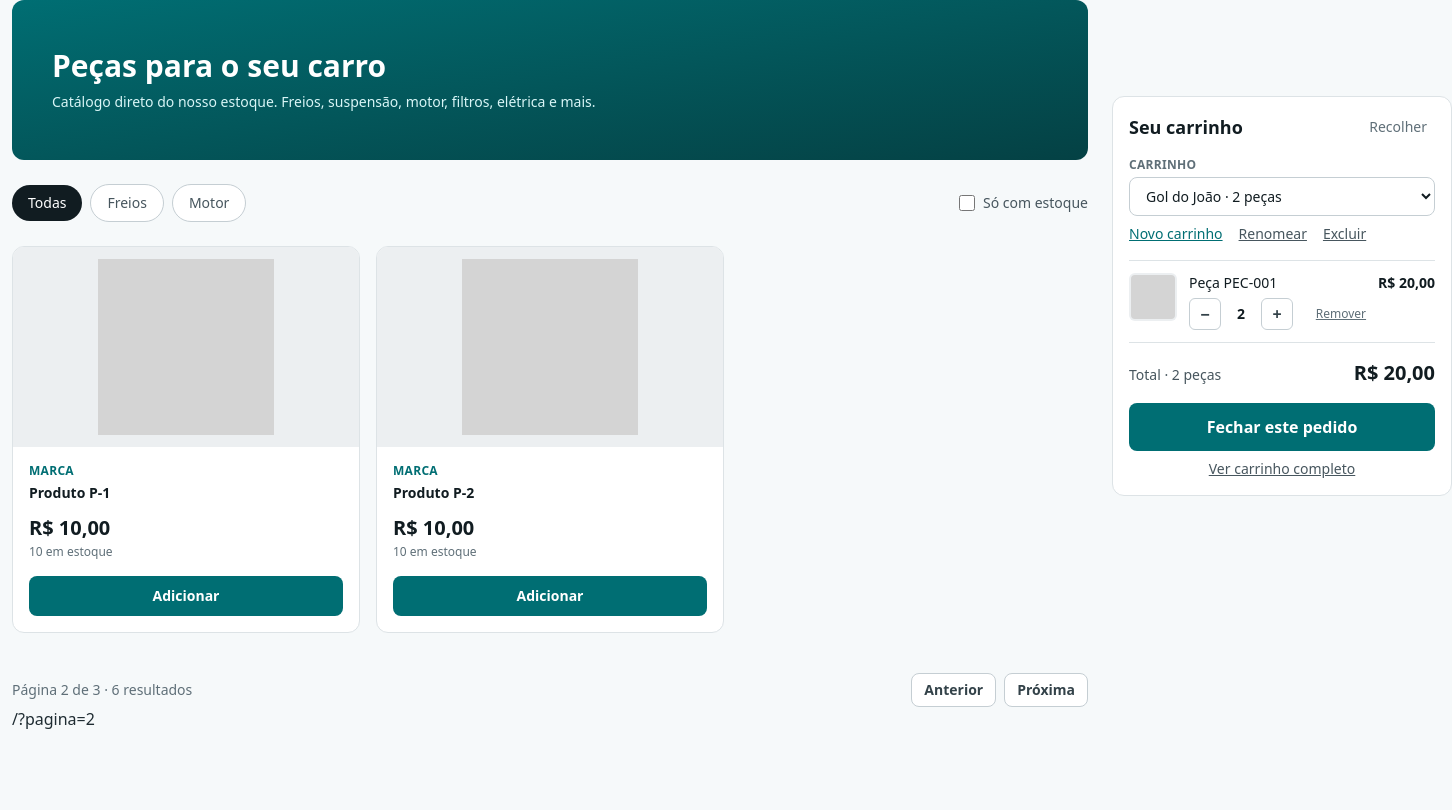
it: KZN-325: mudar a busca ou o filtro volta para a primeira pagina › marcar "Só com estoque" tambem descarta a pagina
What coordinates should you click on to do the following:
click the checkbox labelled "Só com estoque"
I would click on:
 (967, 203)
Its box is x1=959 y1=195 x2=975 y2=211.
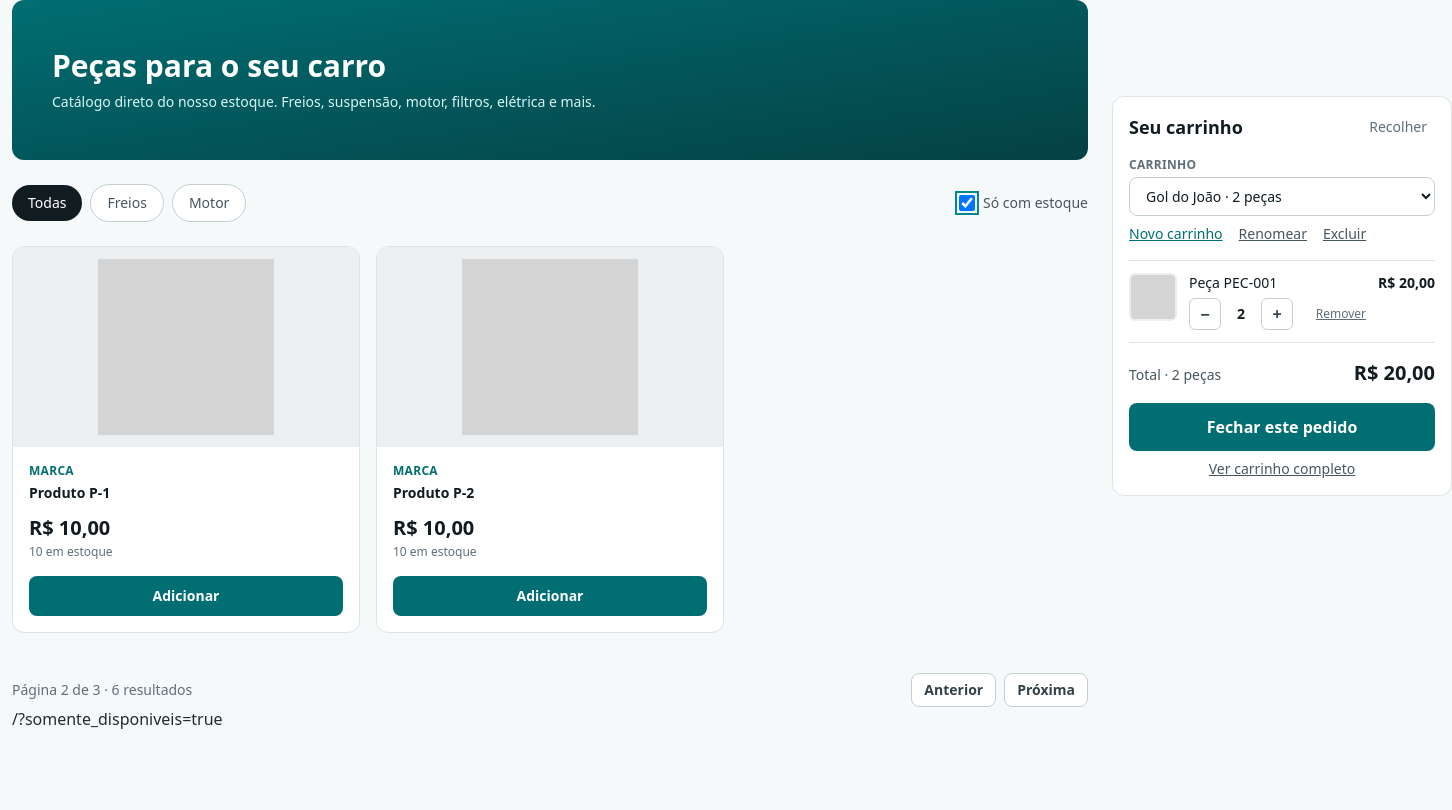
Expected: the text with test id "url" reads "/?somente_disponiveis=true", x1=12 y1=708 x2=223 y2=730
